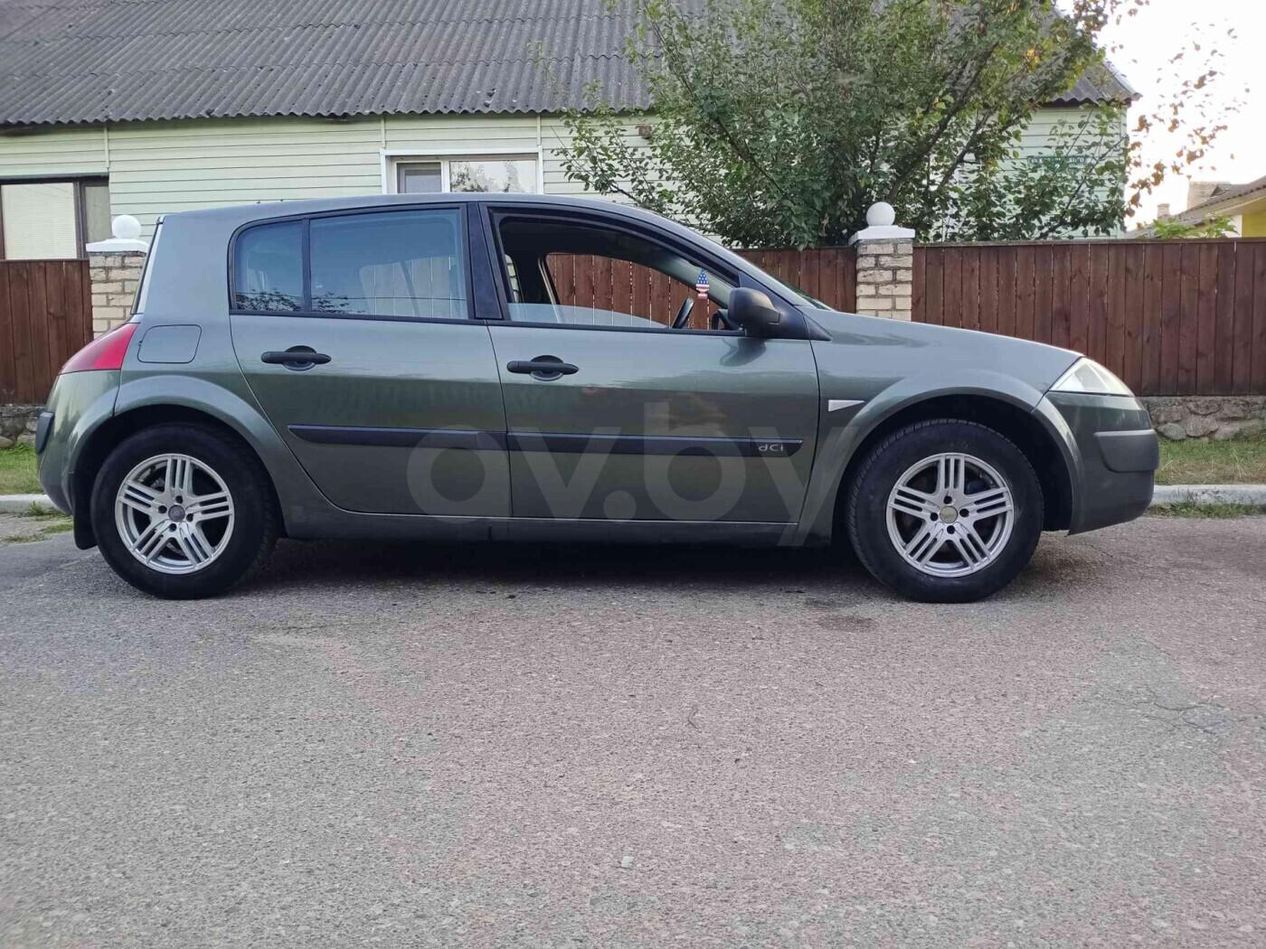Megane_2002-2006: (34, 177, 1163, 603)
